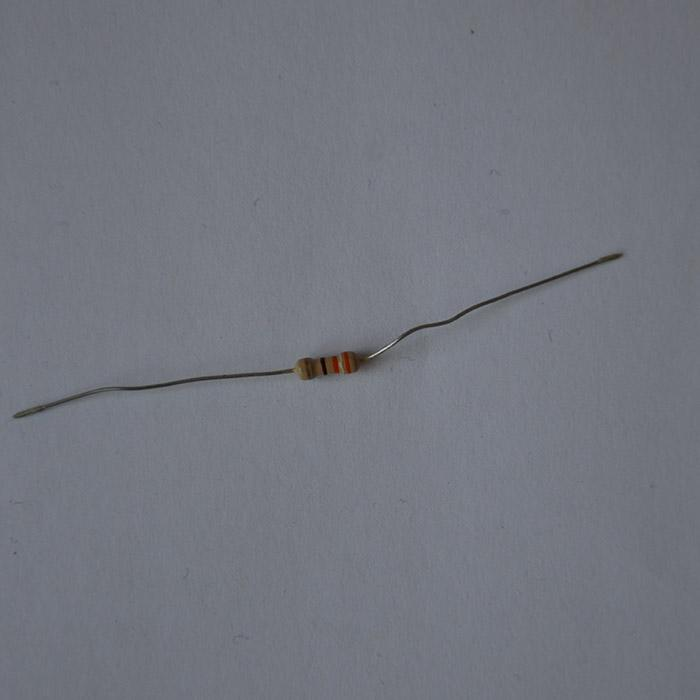resistor: (293, 350, 358, 379)
